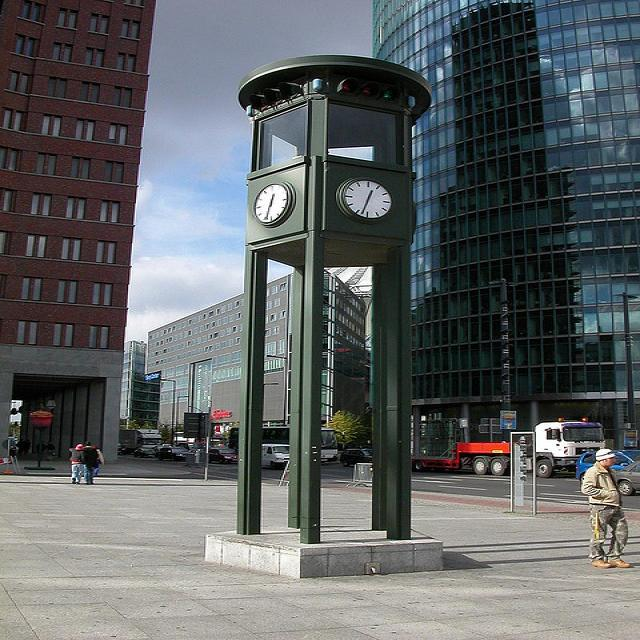Vehicle: (413, 418, 608, 478), (228, 426, 338, 462), (577, 450, 640, 480), (119, 429, 162, 454), (611, 460, 640, 495), (260, 444, 290, 468), (338, 449, 373, 467), (153, 447, 195, 461), (209, 448, 239, 464), (134, 444, 158, 457)
